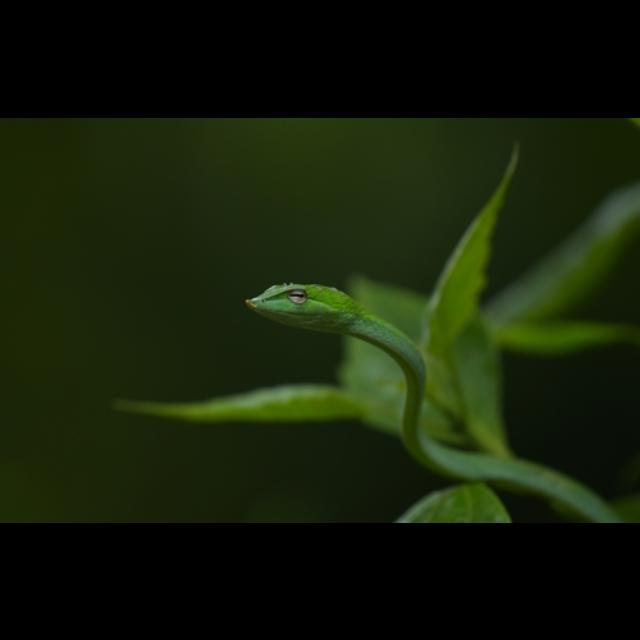snake: (239, 272, 636, 522)
